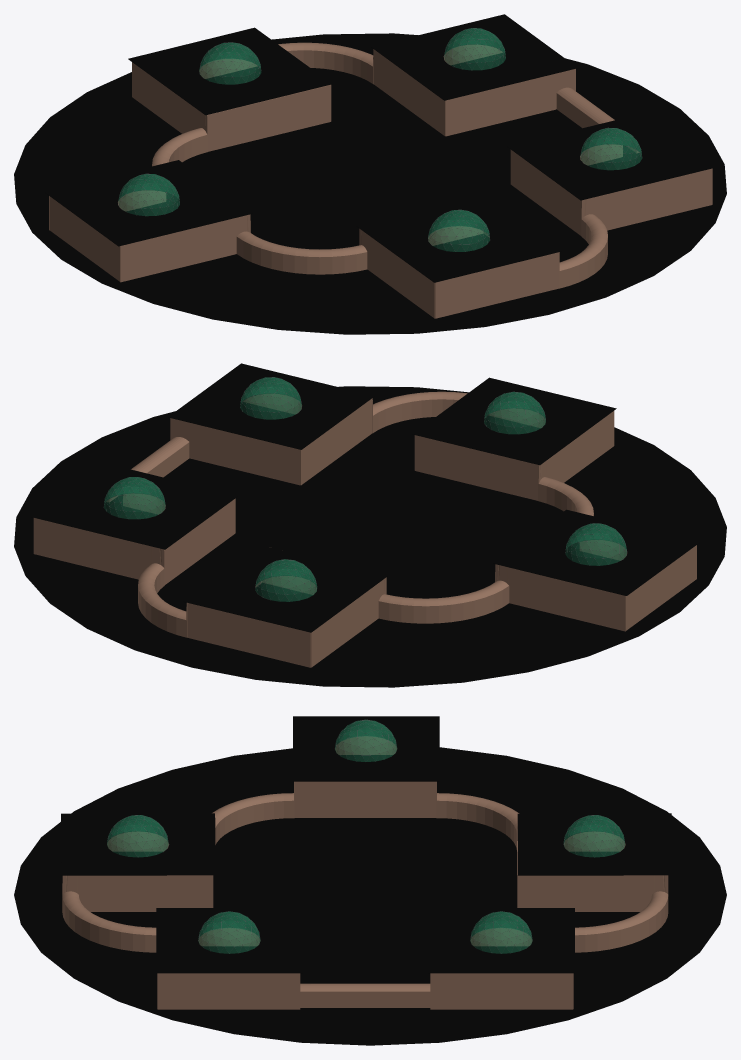
File: pruebamejorada.fbx
The picture shows the model from 3 angles, top to bottom: view 1: azimuth 30°, elevation 25°; view 2: azimuth 150°, elevation 25°; view 3: azimuth 270°, elevation 25°; orthographic projection.
Parts seen in each view (by area): view 1: Círculo, Techo.004, Techo, Techo.003, Techo.001, Techo.002, Cubo.012, Cubo.004, ParedDerecha, Pared Izquierda.006, Cubo.020, Cubo.022 (+19 smaller); view 2: Círculo, Techo.003, Techo, Techo.004, Techo.002, Techo.001, Cubo.003, Pared Izquierda, Pared Izquierda.003, Cubo.011, Cubo.009, Cubo.018 (+19 smaller); view 3: Círculo, Techo.001, Techo.002, Techo.003, Techo.004, Techo, Cubo.014, Cubo.008, Cubo.006, Pared Izquierda.004, Pared Izquierda.002, Cubo.019 (+14 smaller).
Part boxes in pixels (x1,y1,x2,y2): Círculo: (14,33,726,334); Techo.004: (507,114,713,200); Techo: (45,160,251,246); Techo.003: (371,14,577,100); Techo.001: (357,195,560,282); Techo.002: (128,27,332,115); Cubo.012: (207,85,330,151); Cubo.004: (435,252,558,318); ParedDerecha: (120,214,250,282); Pared Izquierda.006: (581,168,712,230); Cubo.020: (445,69,575,136); Cubo.022: (236,231,367,274); Círculo: (14,386,726,687); Techo.003: (32,463,238,549); Techo: (493,509,699,595); Techo.004: (168,363,374,449); Techo.002: (184,545,387,632); Techo.001: (412,377,616,465); Cubo.003: (415,435,538,500); Pared Izquierda: (495,564,625,631); Pared Izquierda.003: (33,518,164,579); Cubo.011: (187,603,310,667); Cubo.009: (170,418,300,485); Cubo.018: (378,580,509,623); Círculo: (14,747,726,1045); Techo.001: (61,813,215,875); Techo.002: (517,813,672,875); Techo.003: (428,908,574,973); Techo.004: (156,908,302,973); Techo: (293,716,439,781); Cubo.014: (430,973,572,1009); Cubo.008: (157,973,299,1009); Cubo.006: (294,781,436,817); Pared Izquierda.004: (62,875,212,911); Pared Izquierda.002: (518,875,668,911); Cubo.019: (300,983,430,1007).
Size of the model in its own units: 18011 by 1774 by 18011.
